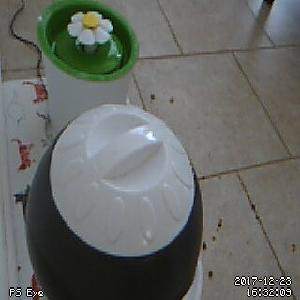fountain: (34, 1, 139, 82)
